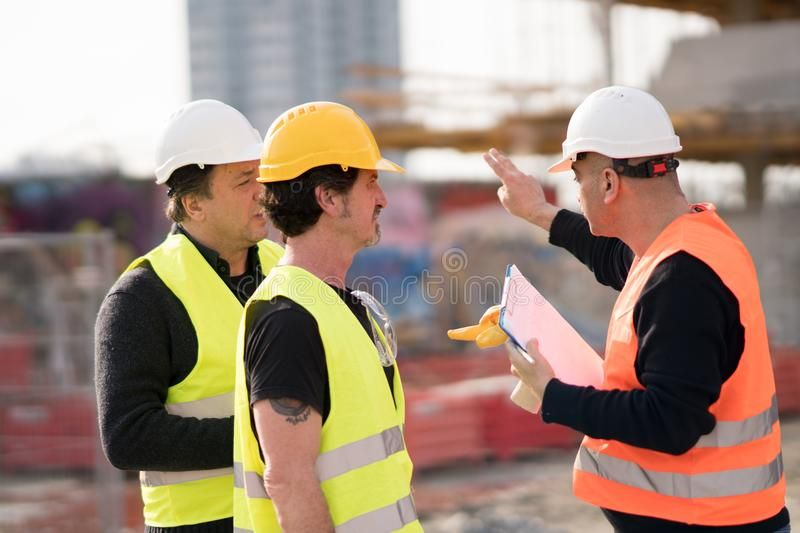With Helmet: (259, 93, 405, 256), (550, 87, 682, 233), (152, 100, 263, 246)
